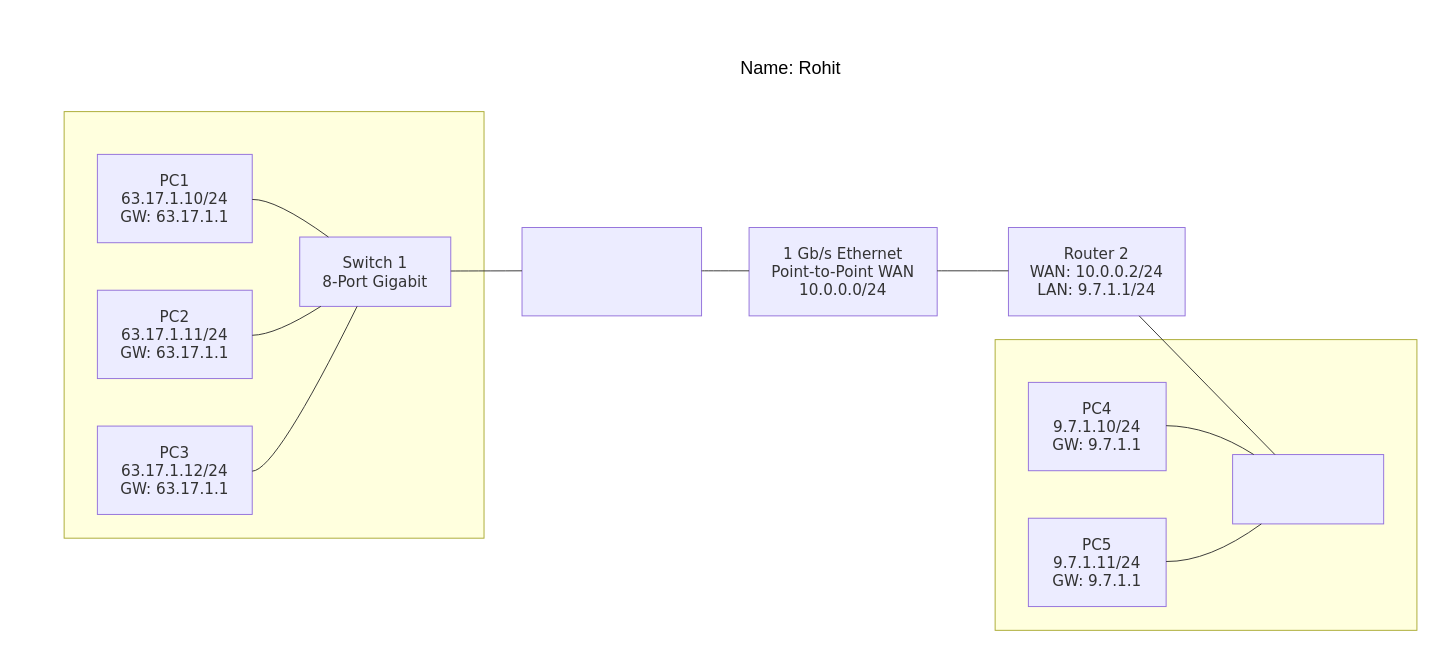
Image size: 1434x647. Some labels were removed from this diagram. The box of each missing label's shape, as (x1, y1, x2, y2) in pixels:
LAN 1 - Rohit LAN (63.17.1.0/24): (63, 111, 484, 538)
LAN 2 - Arnob LAN (9.7.1.0/24): (994, 339, 1417, 630)
Router 1 LAN: 63.17.1.1/24 WAN: 10.0.0.1/24: (521, 227, 702, 316)
Switch 2 8-Port Gigabit: (1232, 454, 1384, 524)
